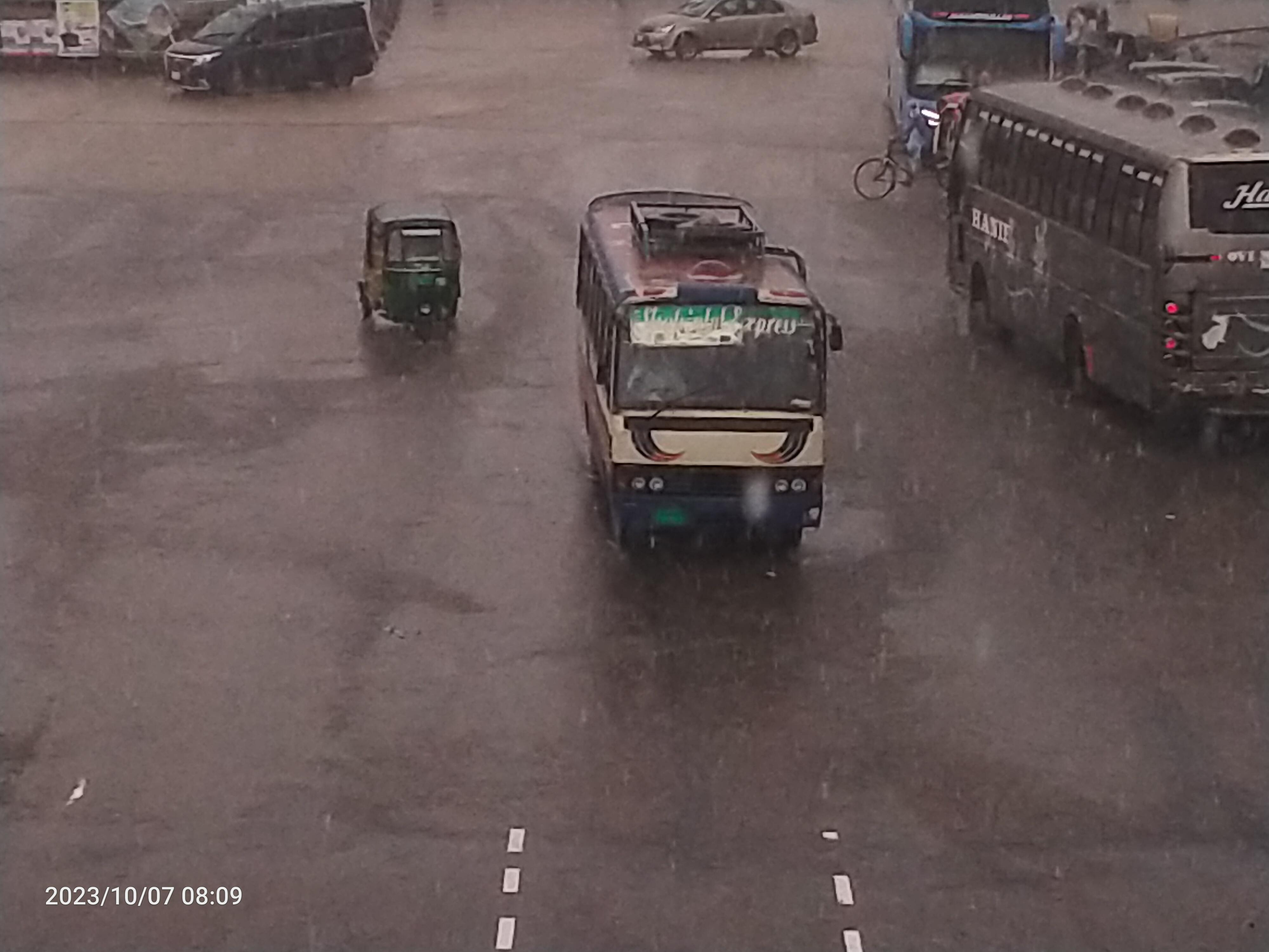Bus: (545, 172, 869, 591), (926, 63, 1269, 458), (882, 0, 1074, 149)
Car: (131, 0, 409, 140), (832, 75, 1006, 231), (615, 1, 866, 102)
